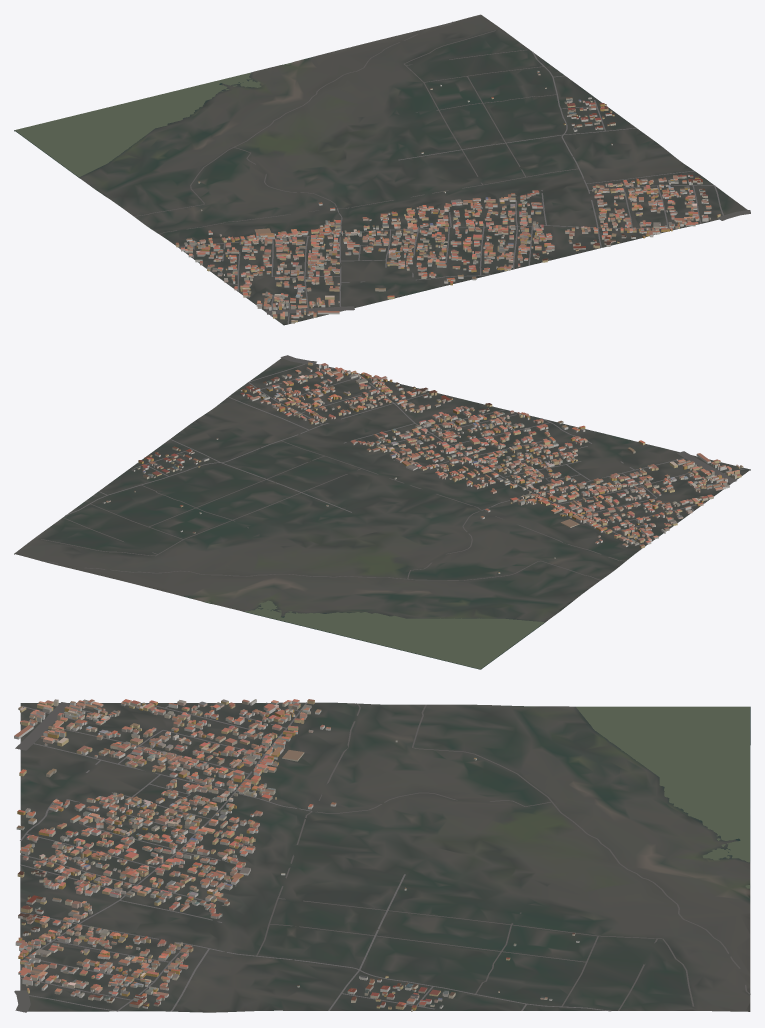
3 renders of one model, top to bottom at view 1: azimuth 30°, elevation 25°; view 2: azimuth 150°, elevation 25°; view 3: azimuth 270°, elevation 25°, orthographic. The views are drawn at different scales.
Visible parts, largest first — view 1: ground, buildings, water, roads; view 2: ground, buildings, water, roads; view 3: ground, buildings, water, roads.
Part boxes in pixels (x1=…): ground: x1=14, y1=14, x2=750, y2=325; buildings: x1=175, y1=70, x2=720, y2=323; water: x1=15, y1=63, x2=291, y2=176; roads: x1=134, y1=21, x2=750, y2=323; ground: x1=14, y1=358, x2=750, y2=669; buildings: x1=102, y1=362, x2=743, y2=573; water: x1=205, y1=600, x2=544, y2=669; roads: x1=41, y1=355, x2=745, y2=580; ground: x1=20, y1=702, x2=750, y2=1012; buildings: x1=14, y1=699, x2=579, y2=1011; water: x1=576, y1=706, x2=749, y2=888; roads: x1=14, y1=702, x2=750, y2=1012.
Size of the model in its own units: 1413 by 24.22 by 1415.
